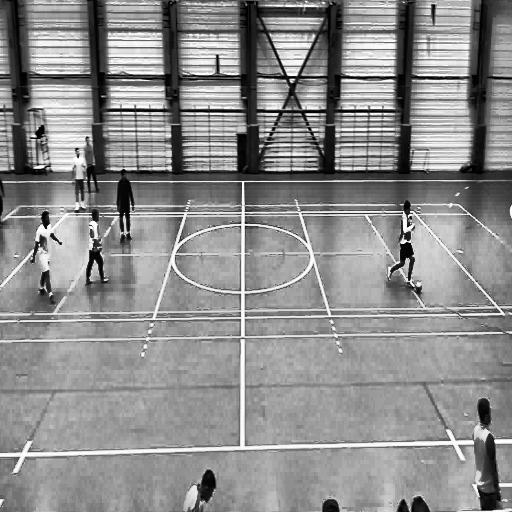ball: (414, 280, 423, 294)
player: (31, 208, 62, 310), (385, 200, 416, 294), (84, 210, 109, 289), (116, 164, 135, 247), (72, 146, 88, 216), (84, 135, 99, 195), (0, 162, 7, 228)
